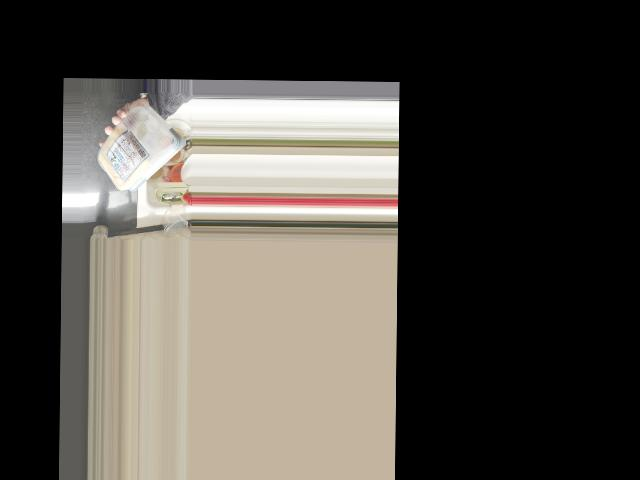cheese: (102, 104, 173, 192)
